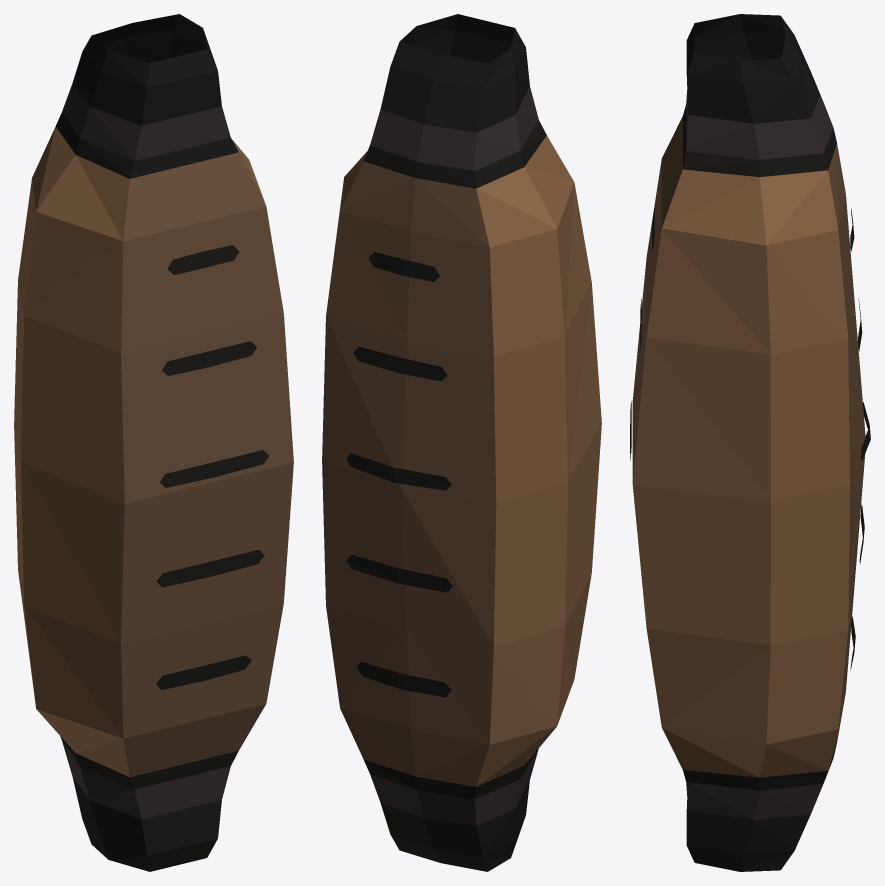
The model's file is smallBowDefaultHandle.glb.
The picture shows the model from 3 angles, left to right: view 1: azimuth 30°, elevation 25°; view 2: azimuth 150°, elevation 25°; view 3: azimuth 270°, elevation 25°; orthographic projection.
Visible parts, largest first — view 1: smallBowDefaultHandle; view 2: smallBowDefaultHandle; view 3: smallBowDefaultHandle.
Boxes of the visible parts, box(x1,y1,x2,y2) form: smallBowDefaultHandle: box(14, 14, 293, 871); smallBowDefaultHandle: box(322, 14, 601, 871); smallBowDefaultHandle: box(630, 14, 870, 871).
Size of the model in its own units: 0.0503 by 0.1627 by 0.0437.
